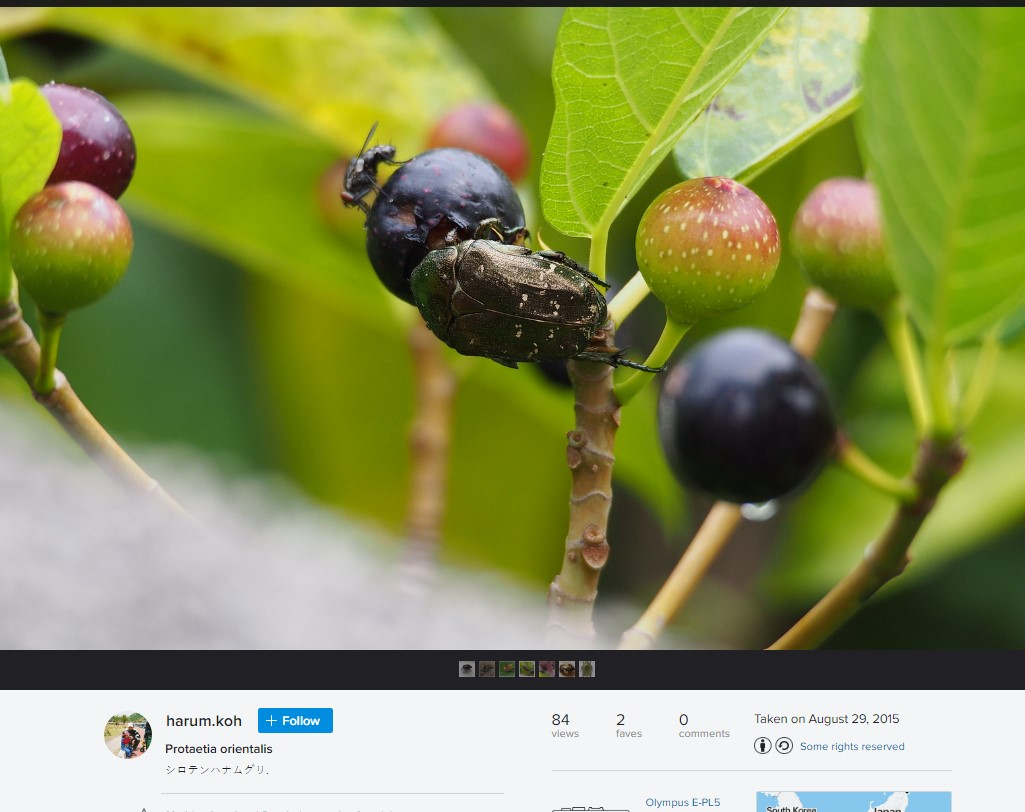Protaetia _orientalis: (396, 209, 674, 382)
